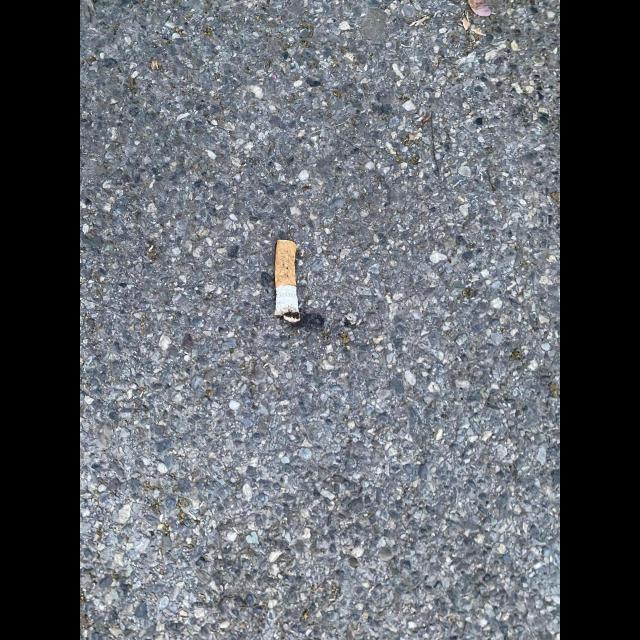cigarette: (274, 239, 301, 323)
